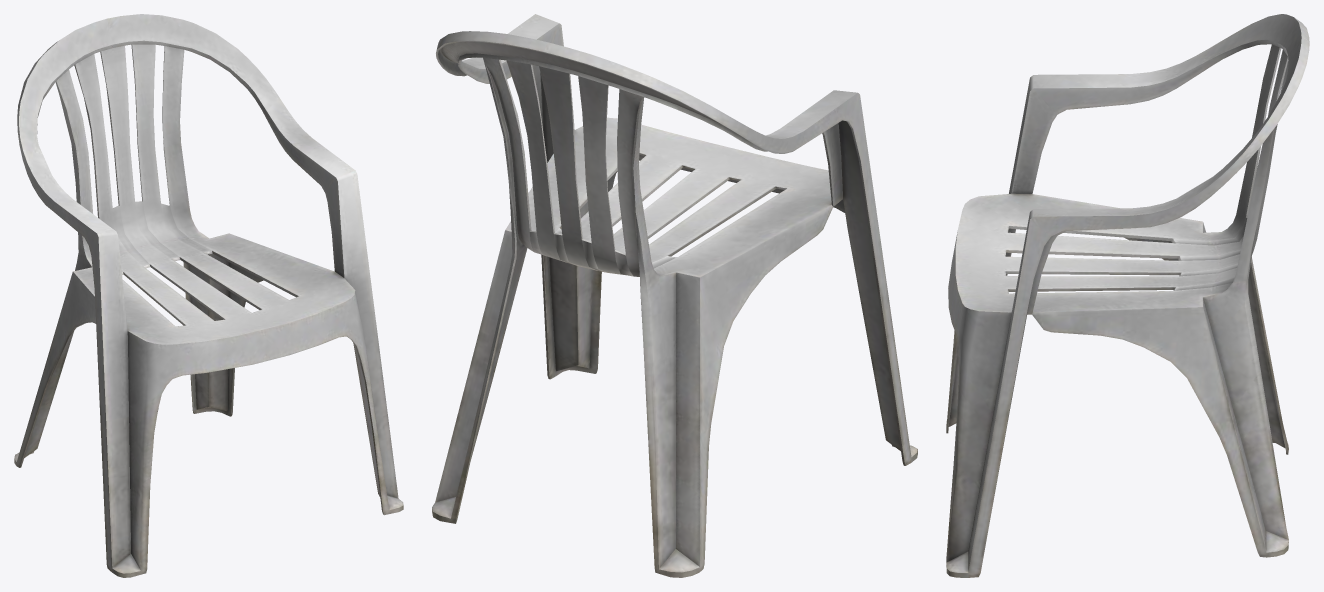
The model's file is plastic_monobloc_chair_01.glb.
The picture shows the model from 3 angles, left to right: view 1: azimuth 30°, elevation 25°; view 2: azimuth 150°, elevation 25°; view 3: azimuth 270°, elevation 25°; orthographic projection. The views are drawn at different scales.
Parts seen in each view (by area): view 1: plastic_monobloc_chair_01; view 2: plastic_monobloc_chair_01; view 3: plastic_monobloc_chair_01.
Part boxes in pixels (<box>): plastic_monobloc_chair_01: <box>14,14,403,577</box>; plastic_monobloc_chair_01: <box>432,14,917,577</box>; plastic_monobloc_chair_01: <box>946,14,1309,577</box>.
Size of the model in its own units: 0.6419 by 0.8798 by 0.6276.
Materials: 1 (1 with a texture image).
